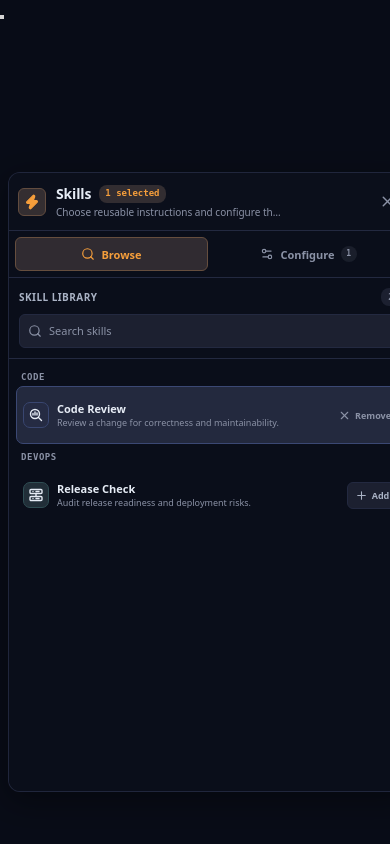
Test case: SkillFlyout › uses browse and configure tabs at compact canvas widths
Click the tab "Configure 1".
click(301, 254)  # box [212,237,389,271]
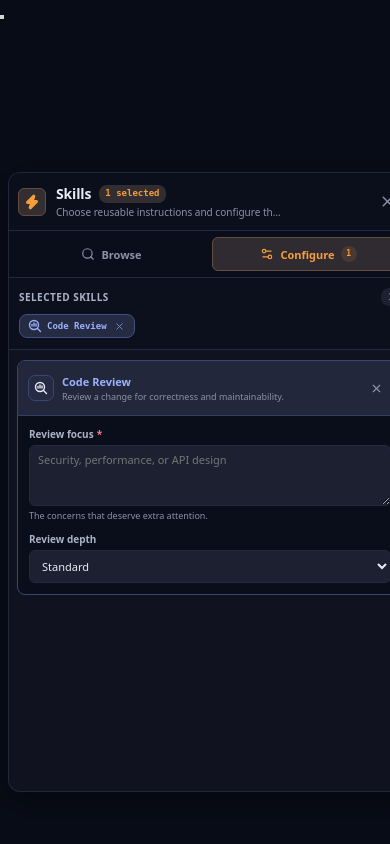
Check: the text box labelled "Review focus *" is shown, box [29,445,389,506]
